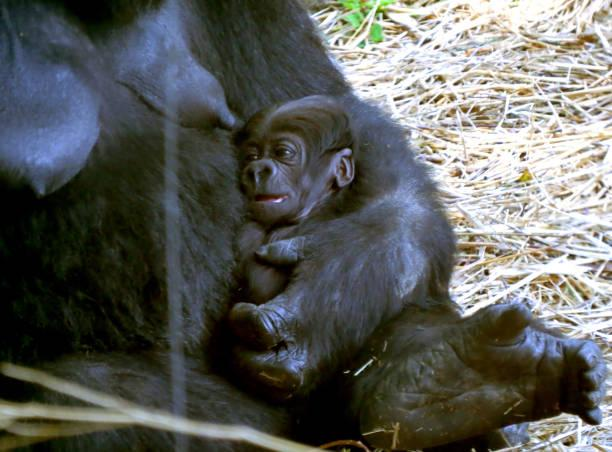gorille_Autres: (224, 76, 375, 319)
